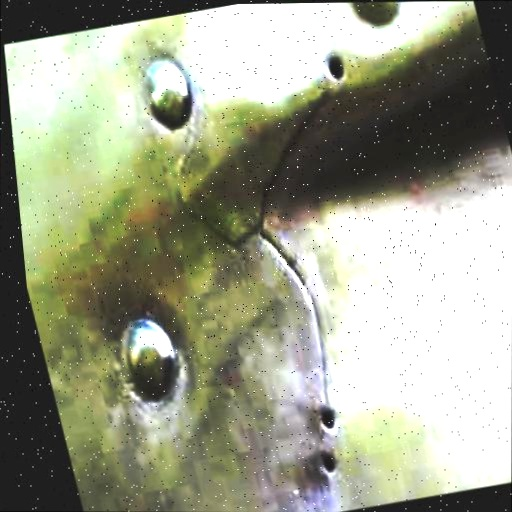crack: (246, 203, 443, 512), (148, 115, 412, 341)
